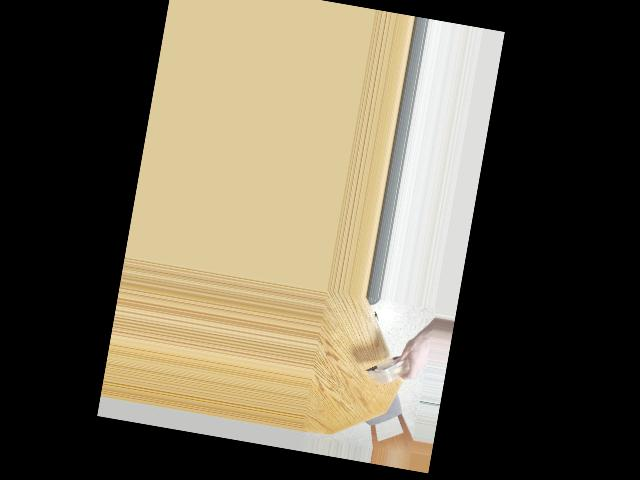cheese: (372, 336, 423, 400)
